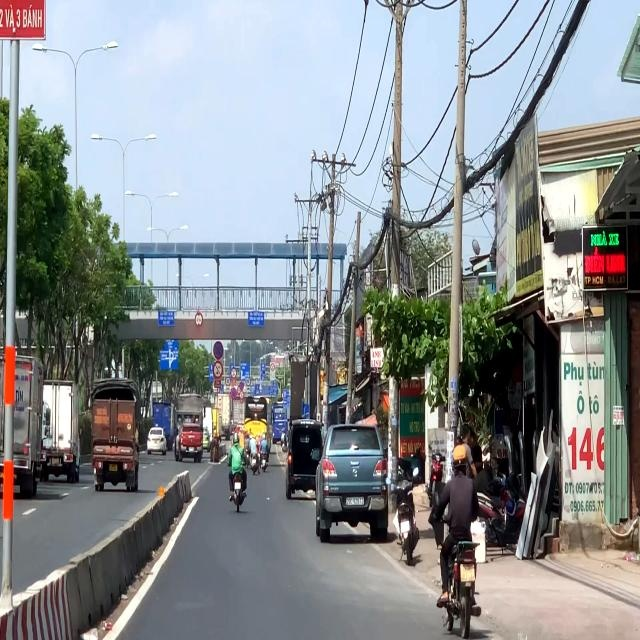bien_cam: (213, 341, 224, 360), (194, 312, 203, 327)
